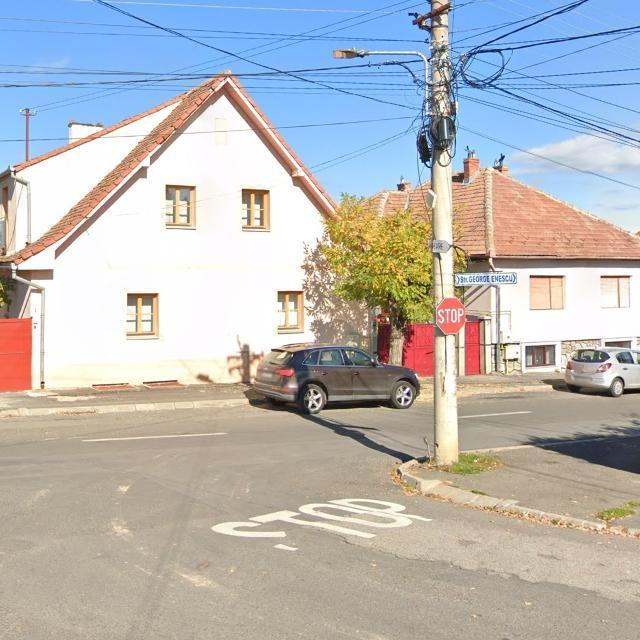prio_stop: (437, 297, 466, 335)
